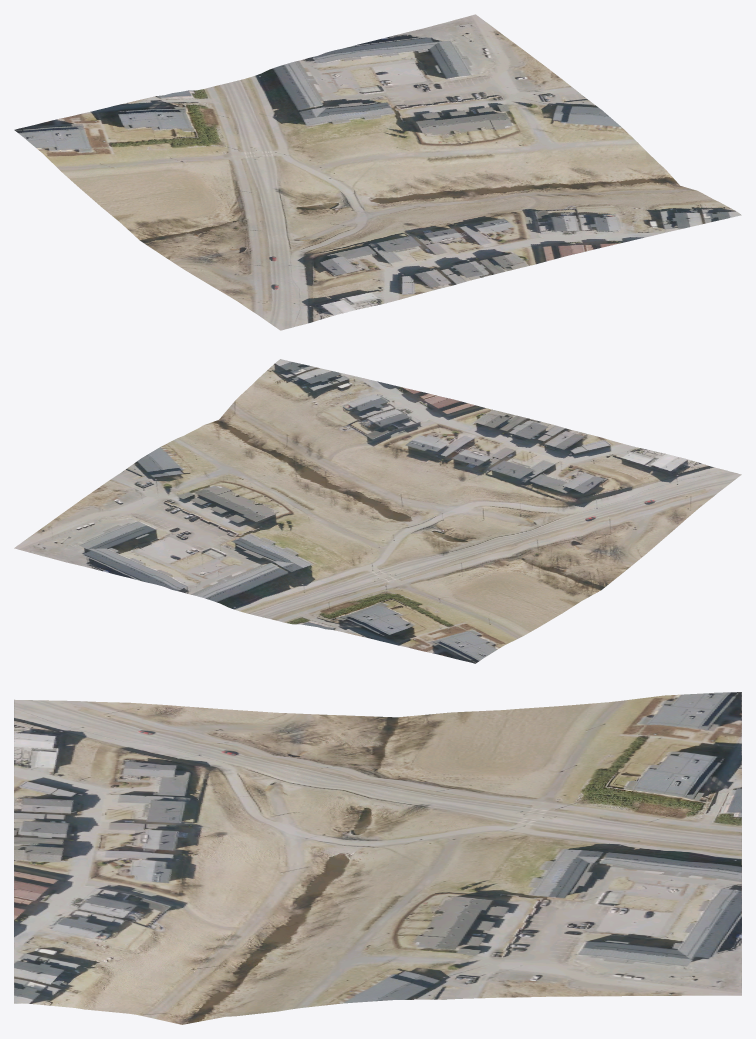
Rendered from CM_Terrain_24490663_6818360.fbx.
The picture shows the model from 3 angles, top to bottom: view 1: azimuth 30°, elevation 25°; view 2: azimuth 150°, elevation 25°; view 3: azimuth 270°, elevation 25°; orthographic projection. The views are drawn at different scales.
Visible parts, largest first — view 1: CM_Terrain_24490663_6818360_LOD0; view 2: CM_Terrain_24490663_6818360_LOD0; view 3: CM_Terrain_24490663_6818360_LOD0.
Part boxes in pixels (<box>): CM_Terrain_24490663_6818360_LOD0: <box>14,14,741,330</box>; CM_Terrain_24490663_6818360_LOD0: <box>14,359,741,663</box>; CM_Terrain_24490663_6818360_LOD0: <box>14,692,741,1024</box>.
Size of what is drawn, in the model's own units: 205 by 9.14 by 205.
